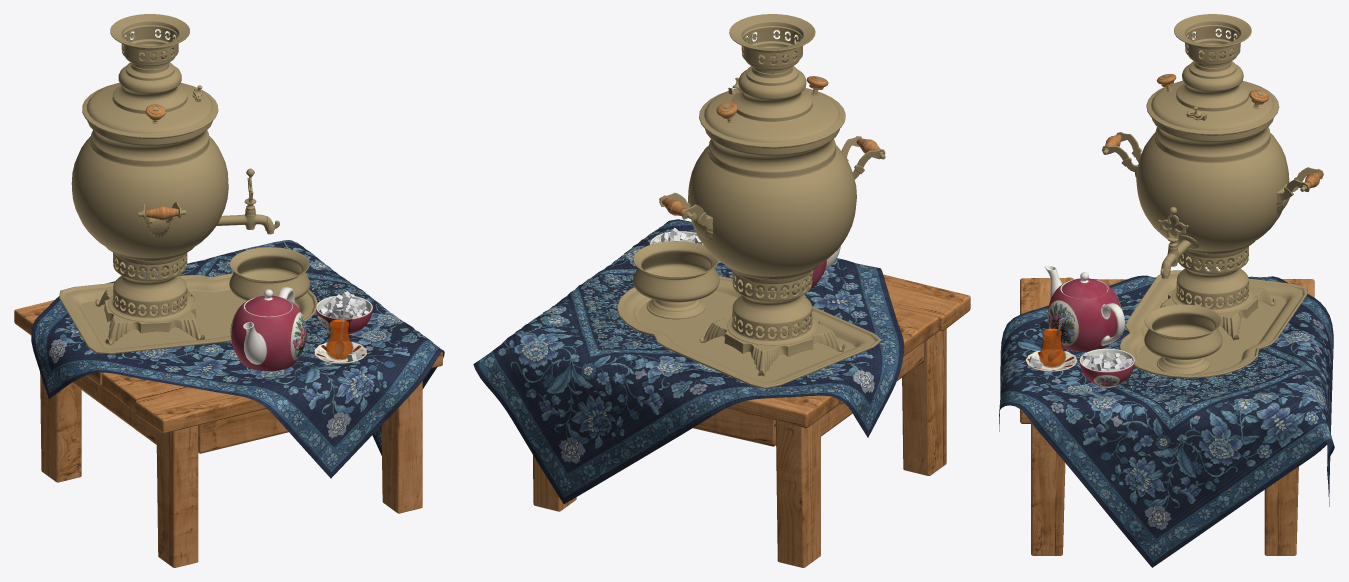
File: A_cup_of_tea.fbx
3 renders of one model, left to right at view 1: azimuth 30°, elevation 25°; view 2: azimuth 150°, elevation 25°; view 3: azimuth 270°, elevation 25°, orthographic. The views are drawn at different scales.
Visible parts, largest first — view 1: parca_mesh, samavar_polySurface45, samavar_polySurface66, pCylinder2, pCube21, caydan_caydan_mesh, samavar_polySurface42, pCube27, pCube15, pCube24, polySurface2, pCube20 (+9 smaller); view 2: parca_mesh, samavar_polySurface45, samavar_polySurface66, pCylinder2, pCube24, polySurface2, pCube21, samavar_polySurface42, pCube15, samavar_polySurface17, pCube19, pCube22 (+4 smaller); view 3: parca_mesh, samavar_polySurface45, samavar_polySurface66, pCylinder2, caydan_caydan_mesh, polySurface2, samavar_polySurface42, pCube27, pCube26, samavar_polySurface91 (×2), pCube15, samavar_polySurface17 (+7 smaller).
Part boxes in pixels (bbox=[...]): parca_mesh: bbox=[31, 240, 444, 478]; samavar_polySurface45: bbox=[71, 96, 228, 261]; samavar_polySurface66: bbox=[82, 14, 218, 138]; pCylinder2: bbox=[59, 273, 317, 354]; pCube21: bbox=[156, 425, 198, 567]; caydan_caydan_mesh: bbox=[230, 287, 306, 371]; samavar_polySurface42: bbox=[108, 252, 192, 322]; pCube27: bbox=[381, 381, 422, 513]; pCube15: bbox=[135, 352, 442, 433]; pCube24: bbox=[40, 372, 81, 482]; polySurface2: bbox=[229, 247, 309, 305]; pCube20: bbox=[198, 408, 288, 453]; parca_mesh: bbox=[473, 219, 904, 503]; samavar_polySurface45: bbox=[688, 129, 856, 279]; samavar_polySurface66: bbox=[699, 14, 845, 147]; pCylinder2: bbox=[617, 276, 881, 388]; pCube24: bbox=[775, 418, 820, 567]; polySurface2: bbox=[633, 241, 719, 319]; pCube21: bbox=[902, 329, 946, 475]; samavar_polySurface42: bbox=[727, 271, 817, 345]; pCube15: bbox=[883, 274, 970, 331]; samavar_polySurface17: bbox=[699, 314, 845, 376]; pCube19: bbox=[726, 395, 838, 427]; pCube22: bbox=[693, 408, 775, 446]; parca_mesh: bbox=[999, 275, 1334, 567]; samavar_polySurface45: bbox=[1136, 116, 1289, 254]; samavar_polySurface66: bbox=[1146, 14, 1279, 134]; pCylinder2: bbox=[1119, 270, 1307, 378]; caydan_caydan_mesh: bbox=[1044, 266, 1124, 351]; polySurface2: bbox=[1144, 304, 1222, 374]; samavar_polySurface42: bbox=[1172, 246, 1253, 313]; pCube27: bbox=[1031, 424, 1065, 555]; pCube26: bbox=[1264, 466, 1298, 555]; samavar_polySurface91 (×2): bbox=[1102, 132, 1323, 213]; pCube15: bbox=[1020, 277, 1073, 423]; samavar_polySurface17: bbox=[1160, 285, 1275, 340].
Bounding box in the file's own units: 138 × 191 × 131.
